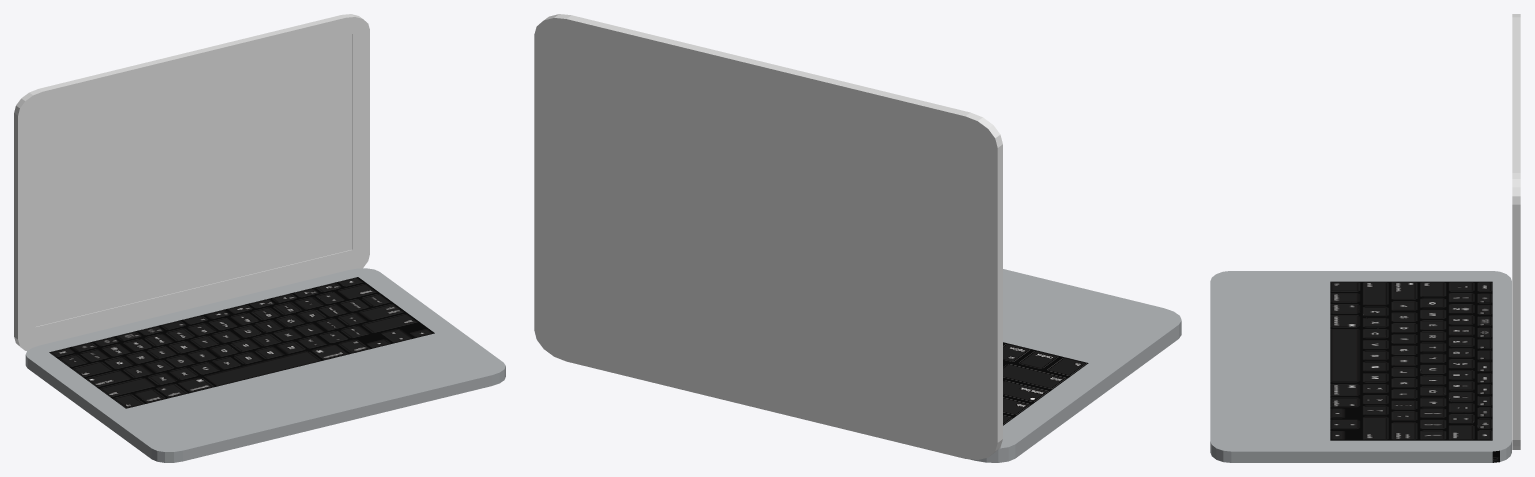
File: Mac.fbx
The picture shows the model from 3 angles, left to right: view 1: azimuth 30°, elevation 25°; view 2: azimuth 150°, elevation 25°; view 3: azimuth 270°, elevation 25°; orthographic projection. The views are drawn at different scales.
Parts seen in each view (by area): view 1: Cube.001, Cube; view 2: Cube.001, Cube; view 3: Cube, Cube.001.
Boxes of the visible parts, x1=… form: Cube.001: x1=14, y1=14, x2=369, y2=350; Cube: x1=25, y1=268, x2=505, y2=462; Cube.001: x1=534, y1=14, x2=1002, y2=459; Cube: x1=970, y1=269, x2=1181, y2=462; Cube: x1=1210, y1=271, x2=1511, y2=462; Cube.001: x1=1512, y1=14, x2=1520, y2=449.
Bounding box in the file's own units: 32.18 × 23.04 × 23.38.
